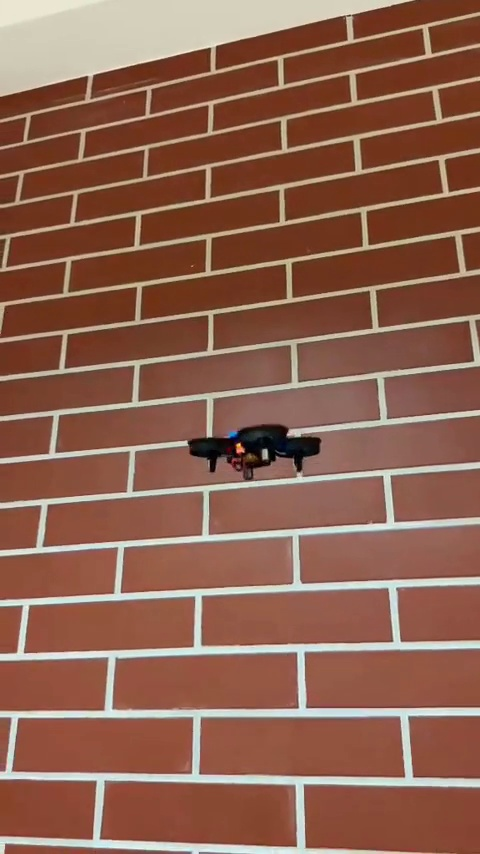drone: (184, 423, 321, 478)
